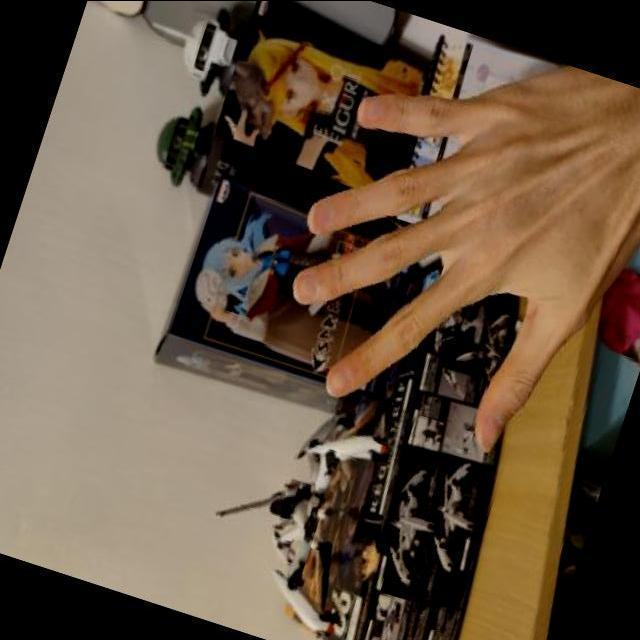hand: (229, 0, 640, 508)
